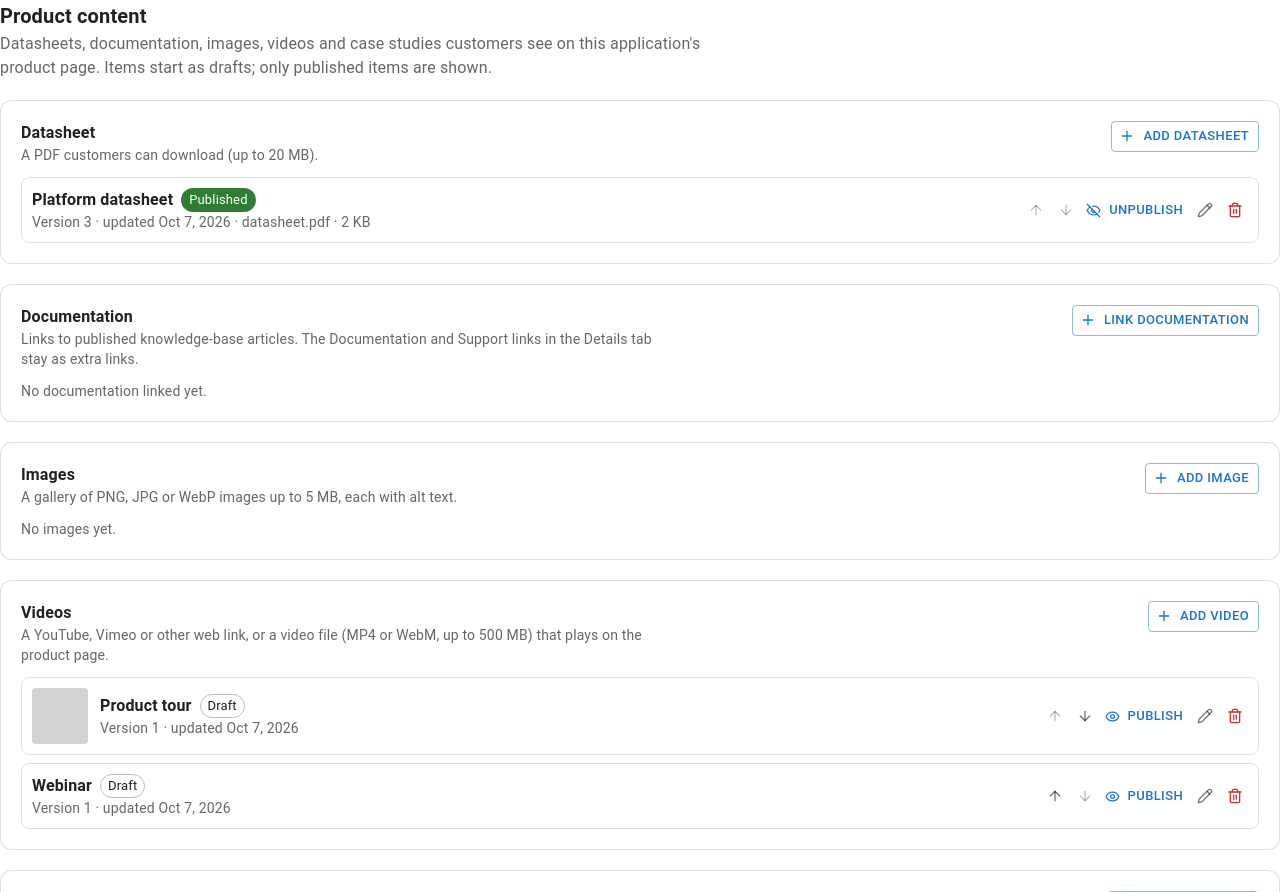
Product content — admin Content tab (REQ-CAT-004) › an image needs alt text
This screenshot has width=1280, height=892.
Click the button "Add image" at (1202, 478), box [1145,463,1259,494]
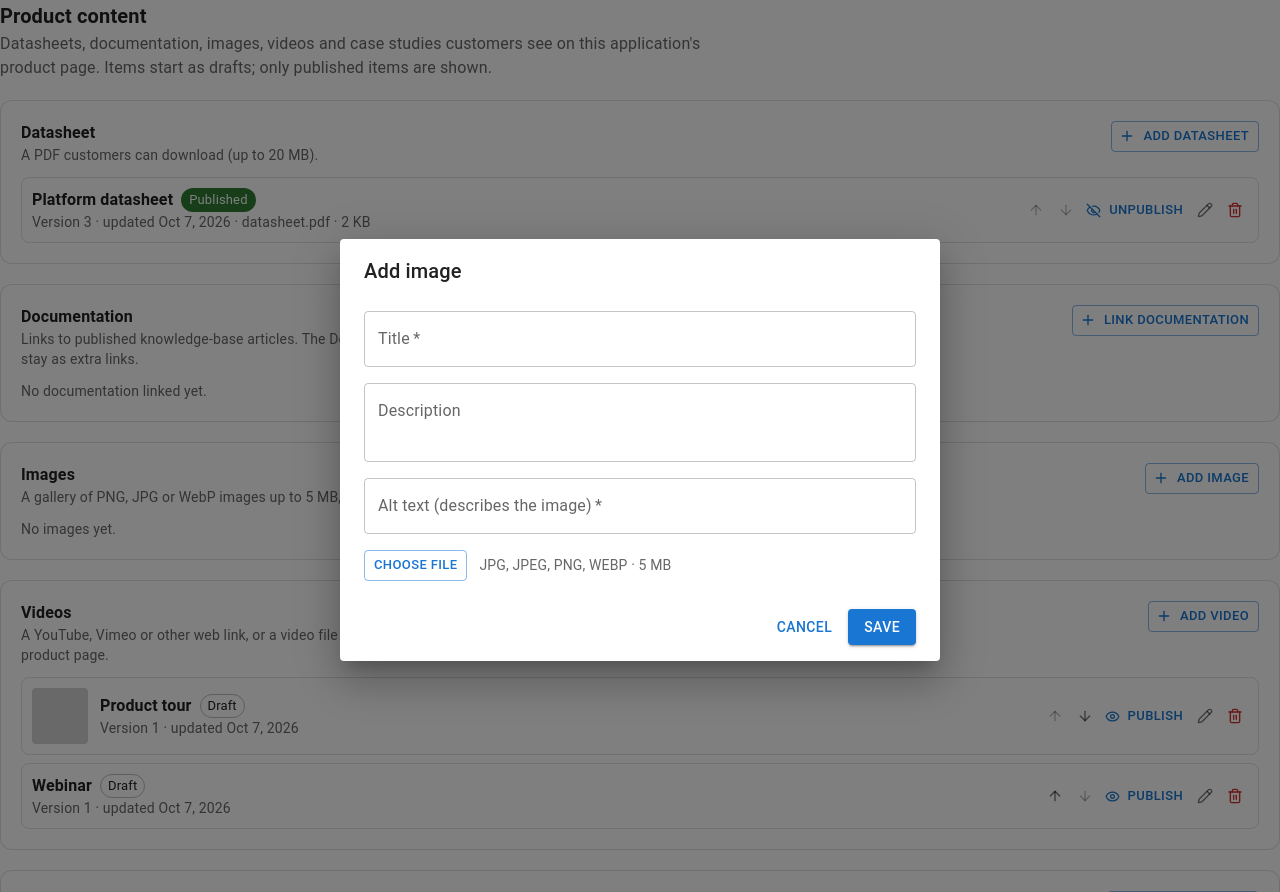
Type "Hero" into the field labelled "Title *" at (640, 339), box [364,311,916,367]
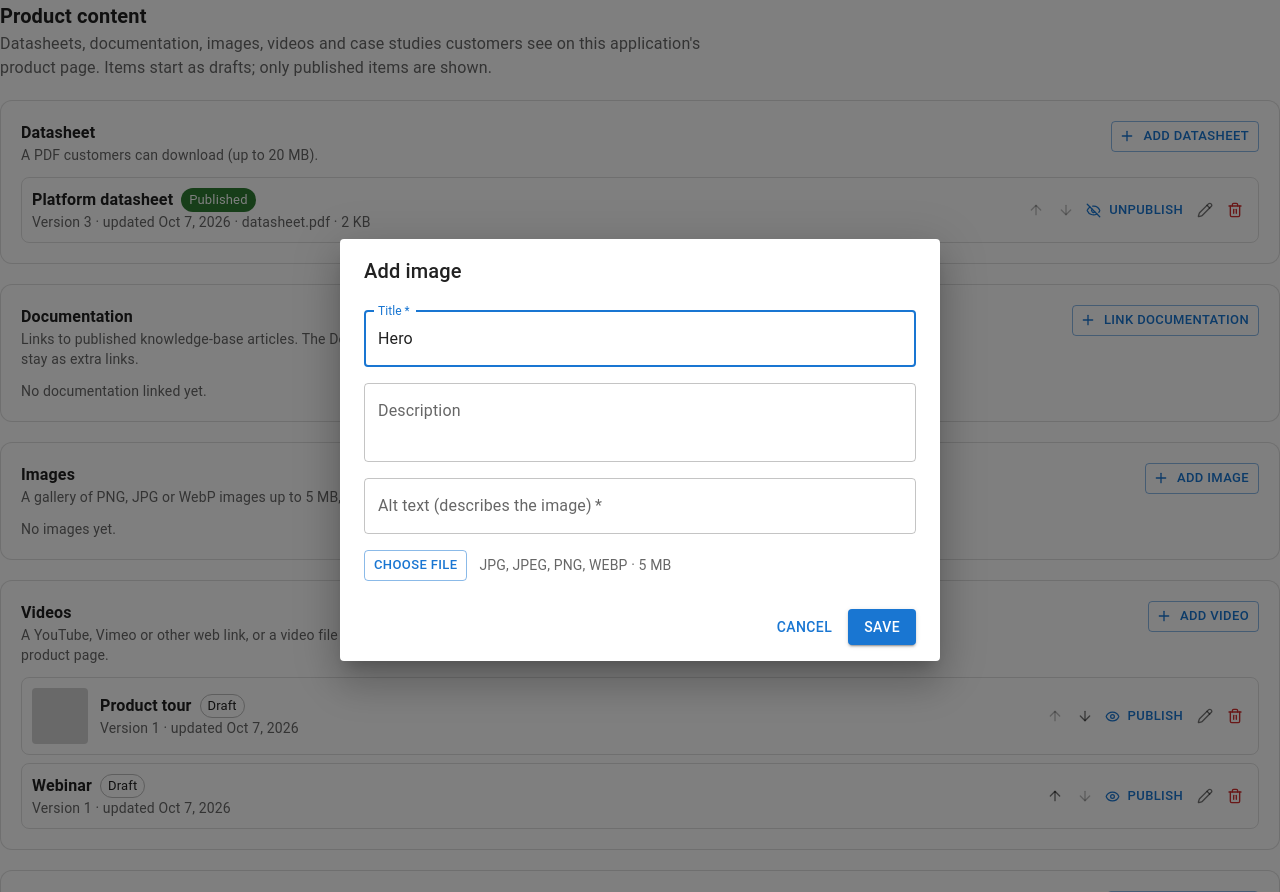
Click the button "Save" at (882, 627), box [848,609,916,645]
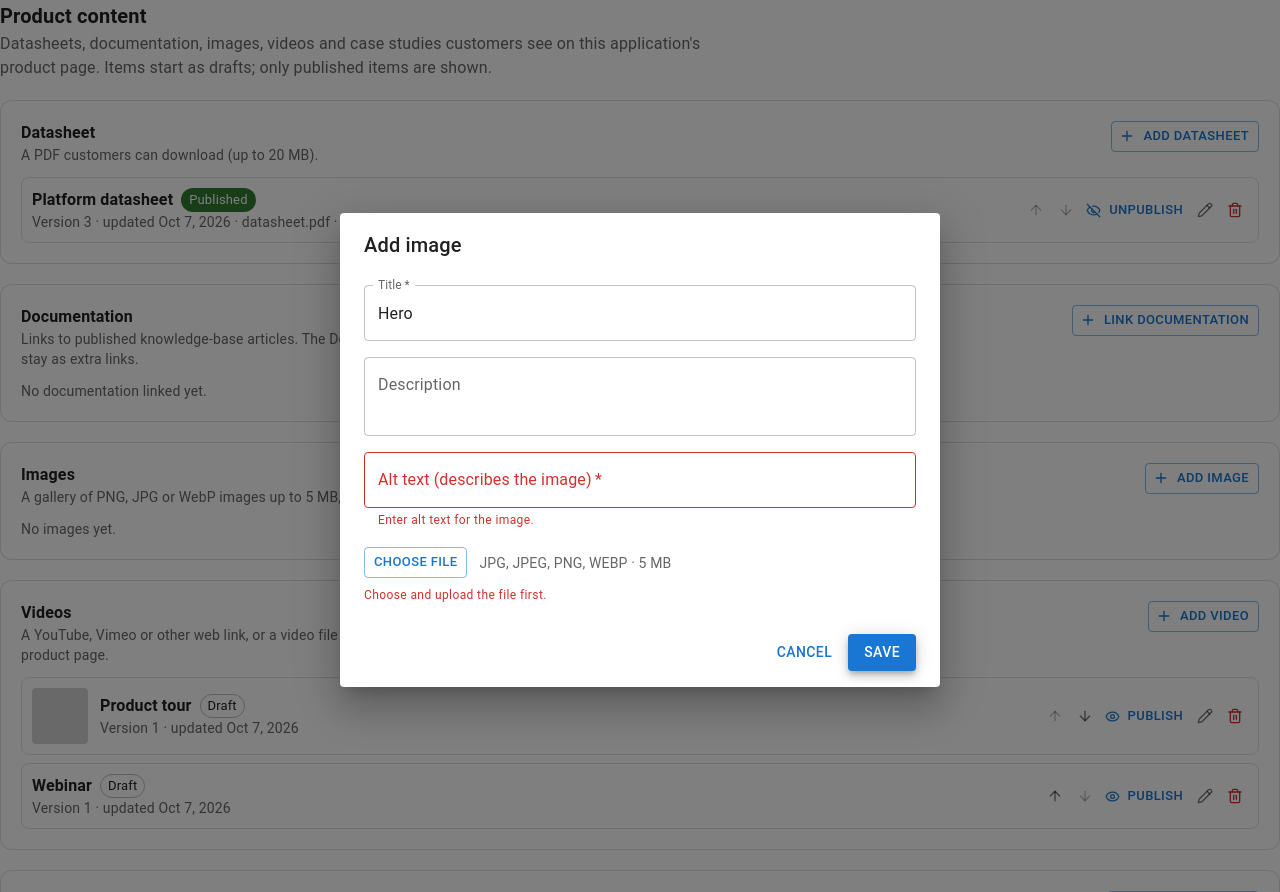
Check: the text "Enter alt text for the image." is shown, box [378,514,534,528]
